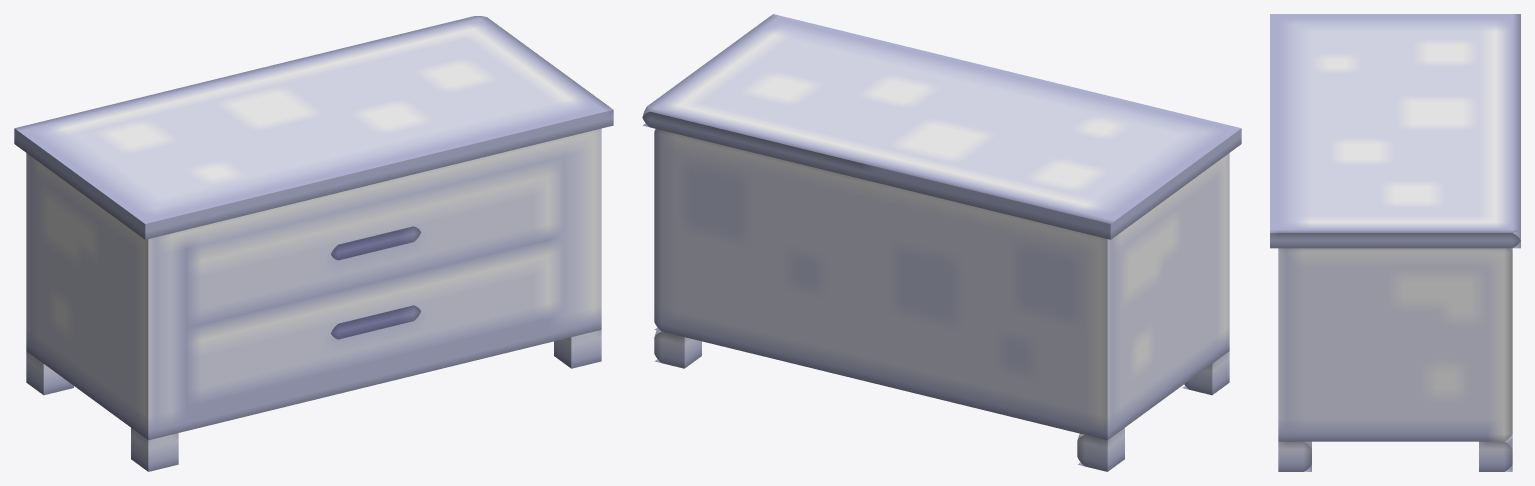
File: sideboard_64.obj
3 renders of one model, left to right at view 1: azimuth 30°, elevation 25°; view 2: azimuth 150°, elevation 25°; view 3: azimuth 270°, elevation 25°, orthographic. The views are drawn at different scales.
Size of the model in its own units: 1.94 by 1 by 0.9375.
1 material, 1 textured.
